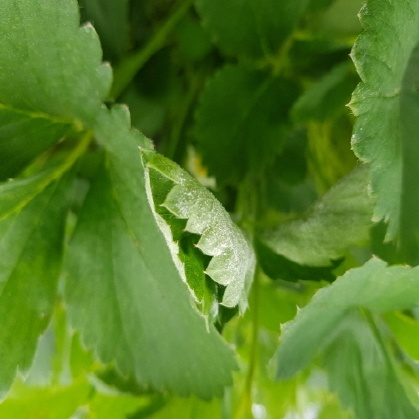Powdery_Leaf: (161, 83, 282, 274)
